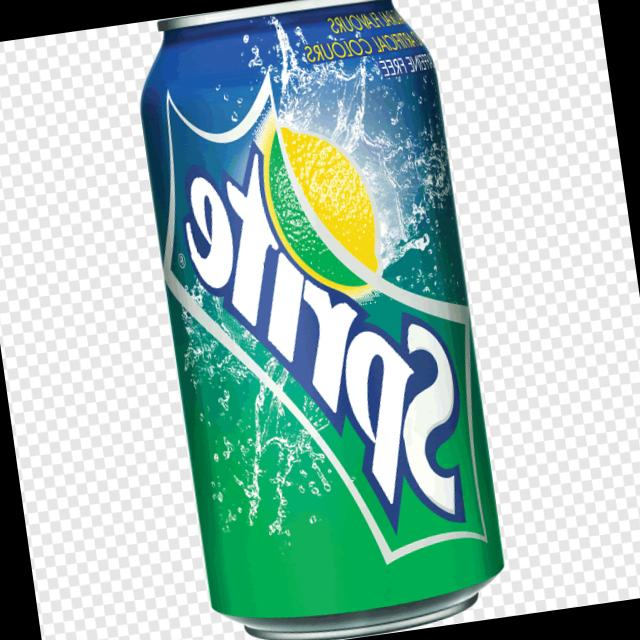sprite: (131, 0, 525, 640)
